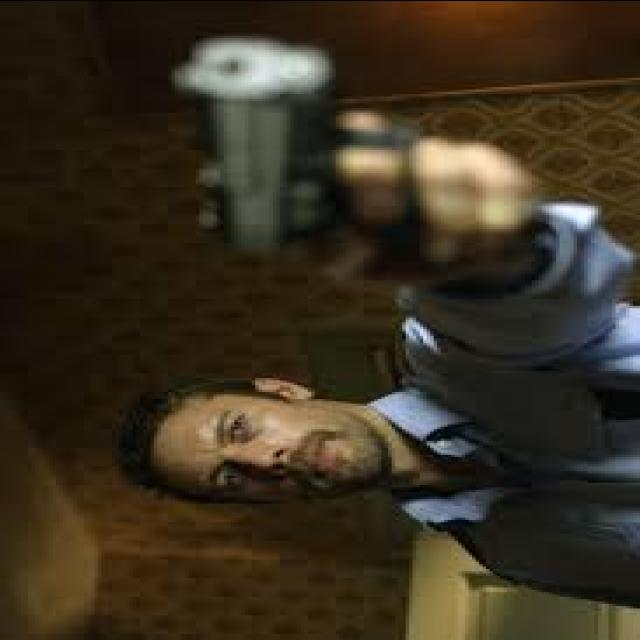weapons: (125, 23, 512, 283)
